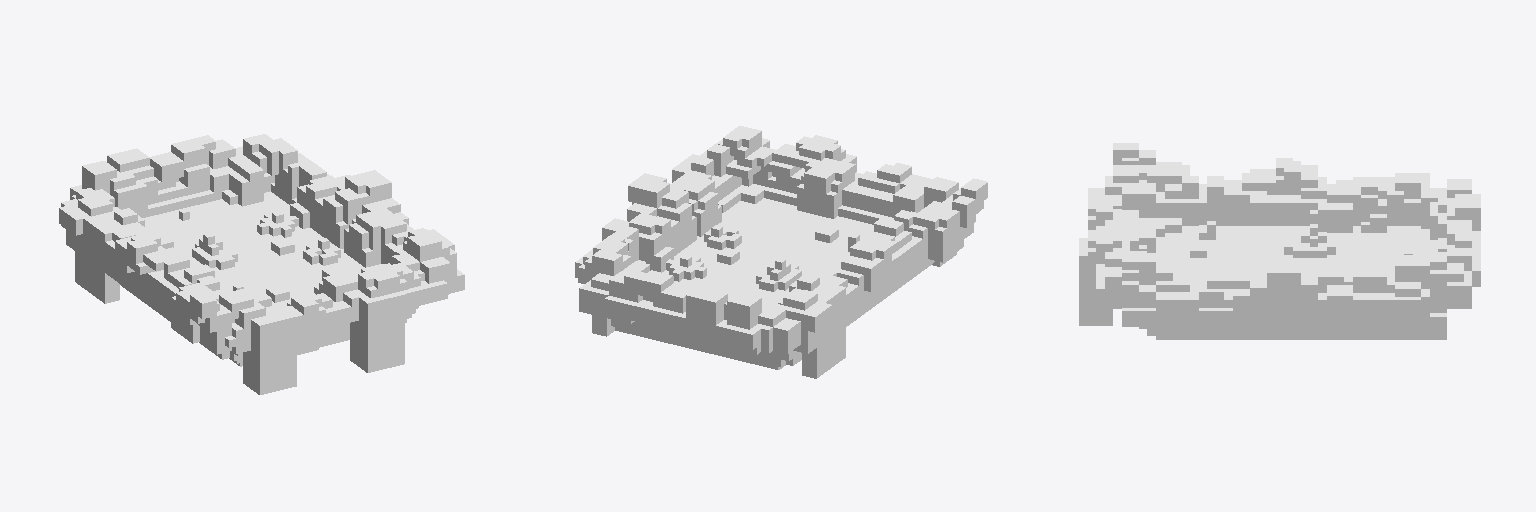
File: env_pond.obj
3 renders of one model, left to right at view 1: azimuth 30°, elevation 25°; view 2: azimuth 150°, elevation 25°; view 3: azimuth 270°, elevation 25°, orthographic.
Visible parts, largest first — view 1: object 1; view 2: object 1; view 3: object 1.
Part boxes in pixels (x1,y1,x2,y2): object 1: (59,134,464,394); object 1: (575,126,987,378); object 1: (1079,143,1480,339).
Size of the model in its own units: 3.7 by 1.2 by 4.7.